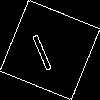I: (25, 25, 55, 72)
